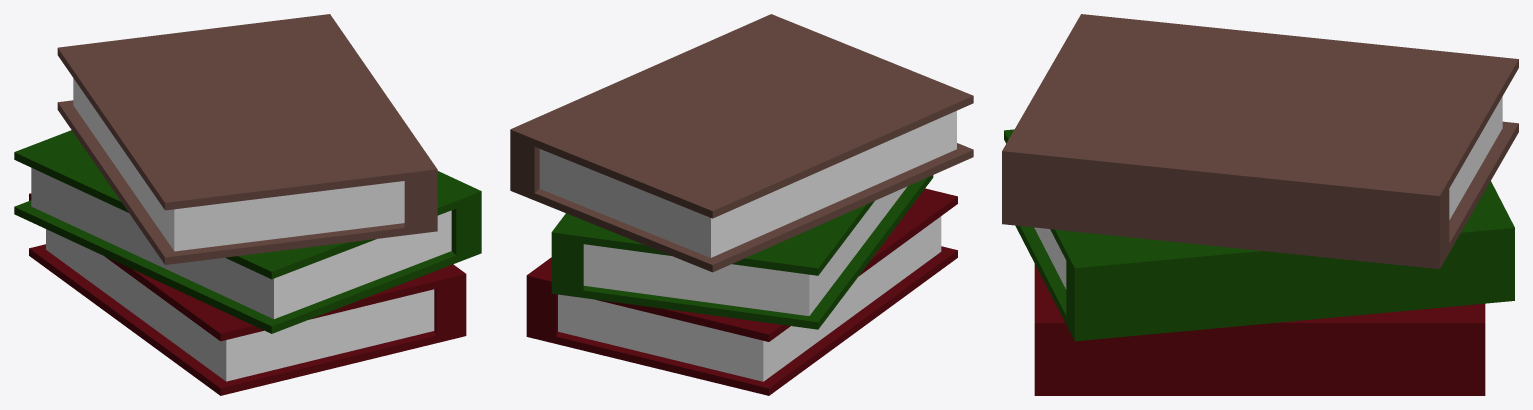
Rendered from book_pile1.fbx.
3 renders of one model, left to right at view 1: azimuth 30°, elevation 25°; view 2: azimuth 150°, elevation 25°; view 3: azimuth 270°, elevation 25°, orthographic. The views are drawn at different scales.
Parts seen in each view (by area): view 1: Cube; view 2: Cube; view 3: Cube.
Part boxes in pixels (x1=…): Cube: x1=14, y1=14, x2=481, y2=395; Cube: x1=510, y1=14, x2=973, y2=395; Cube: x1=1002, y1=14, x2=1518, y2=395.
Bounding box in the file's own units: 436 × 246 × 523.
